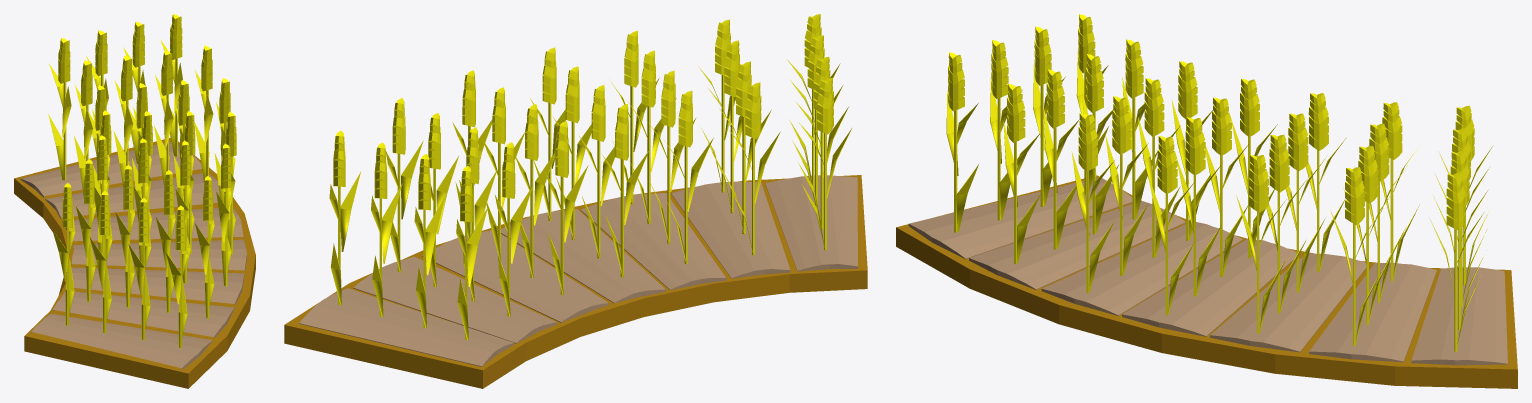
The model's file is innercircle-planted2.fbx.
3 views of the same model, side by side, from view 1: azimuth 30°, elevation 25°; view 2: azimuth 150°, elevation 25°; view 3: azimuth 270°, elevation 25° (orthographic). The views are drawn at different scales.
Parts seen in each view (by area): view 1: Cylinder.041, Cube.023, Cube.030, Cube.032, Cube.031, Cube.015, Cube.033, Cube.017, Cube.027, Cube.026, Cube.001, Cube.029 (+17 smaller); view 2: Cylinder.041, Cube.024, Cube.012, Cube.025, Cube.022, Cube.023, Cube.015, Cube.014, Cube.016, Cube.008, Cube.010, Cube.002 (+17 smaller); view 3: Cylinder.041, Cube.028, Cube.026, Cube.003, Cube.030, Cube.001, Cube.006, Cube.009, Cube.010, Cube.032, Cube.005, Cube.027 (+17 smaller).
Boxes of the visible parts, bbox=[...] form: Cylinder.041: bbox=[14, 138, 255, 388]; Cube.023: bbox=[48, 38, 71, 180]; Cube.030: bbox=[165, 205, 188, 348]; Cube.032: bbox=[128, 198, 151, 340]; Cube.031: bbox=[52, 183, 75, 325]; Cube.015: bbox=[194, 45, 213, 182]; Cube.033: bbox=[89, 190, 112, 333]; Cube.017: bbox=[154, 50, 173, 187]; Cube.027: bbox=[76, 159, 95, 302]; Cube.026: bbox=[195, 176, 214, 318]; Cube.001: bbox=[216, 143, 231, 286]; Cube.029: bbox=[115, 165, 135, 307]; Cylinder.041: bbox=[284, 175, 867, 388]; Cube.024: bbox=[371, 142, 402, 316]; Cube.012: bbox=[544, 121, 588, 295]; Cube.025: bbox=[414, 154, 446, 328]; Cube.022: bbox=[329, 130, 360, 305]; Cube.023: bbox=[456, 165, 488, 340]; Cube.015: bbox=[385, 98, 423, 272]; Cube.014: bbox=[515, 104, 555, 278]; Cube.016: bbox=[494, 142, 533, 316]; Cube.008: bbox=[602, 104, 649, 277]; Cube.010: bbox=[579, 85, 615, 258]; Cube.002: bbox=[664, 90, 713, 264]; Cylinder.041: bbox=[896, 175, 1517, 388]; Cube.028: bbox=[1043, 69, 1079, 249]; Cube.026: bbox=[1003, 84, 1040, 263]; Cube.003: bbox=[1105, 96, 1148, 275]; Cube.030: bbox=[946, 52, 979, 232]; Cube.001: bbox=[1071, 113, 1114, 292]; Cube.006: bbox=[1148, 136, 1195, 315]; Cube.009: bbox=[1176, 117, 1222, 296]; Cube.010: bbox=[1203, 97, 1249, 276]; Cube.032: bbox=[990, 40, 1022, 220]; Cube.005: bbox=[1137, 78, 1180, 257]; Cube.027: bbox=[1122, 39, 1158, 219].
Size of the model in its own units: 2143 by 1042 by 2897.
